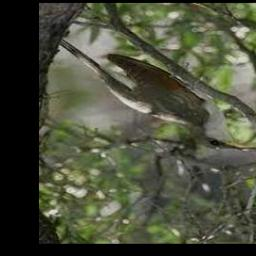Cuckoo: (59, 40, 254, 151)
